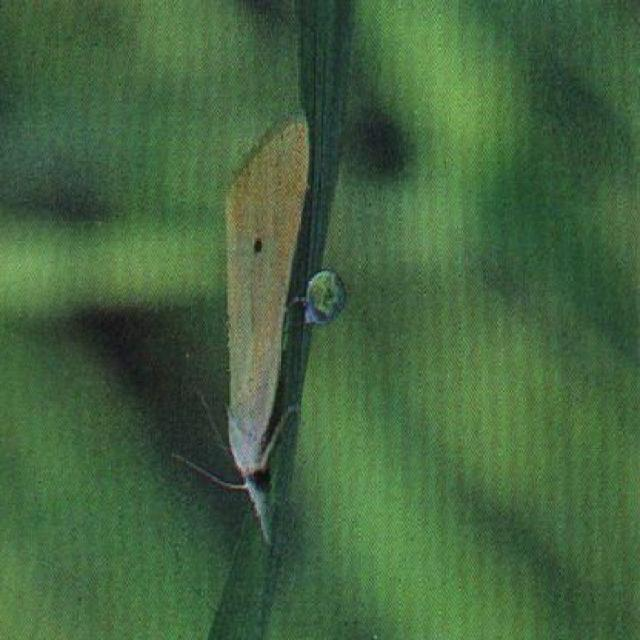stem-borer: (205, 107, 309, 548)
